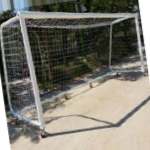goals: (1, 9, 146, 131)
